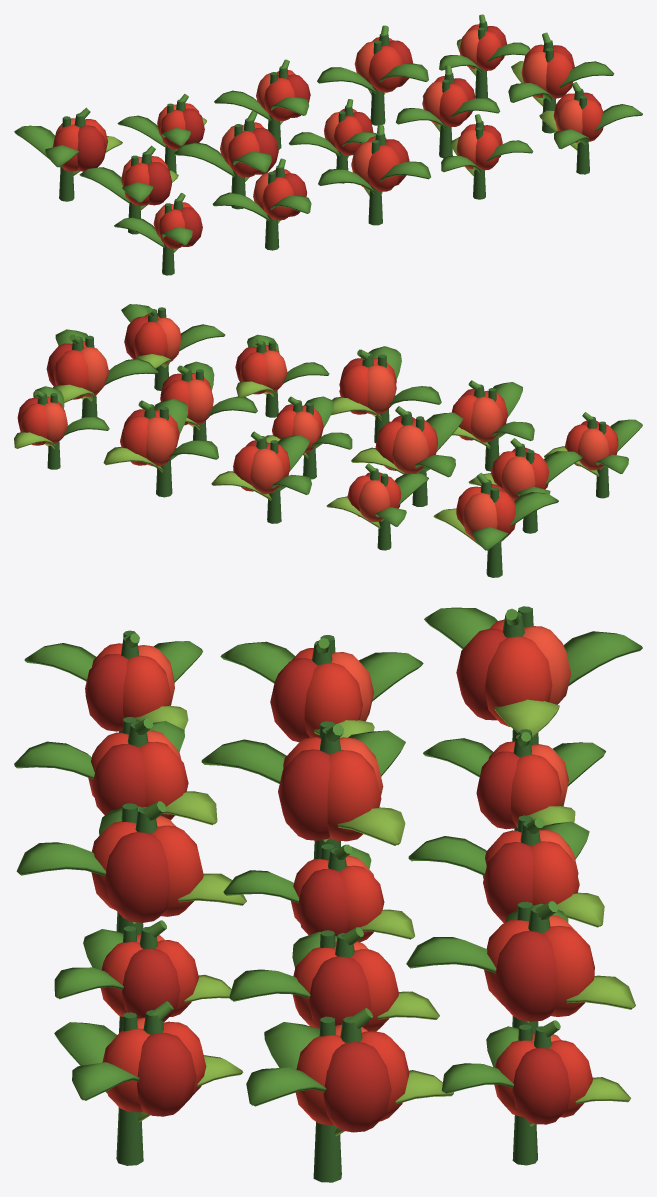
Rendered from Pepper_Planted_Patch.fbx.
3 renders of one model, top to bottom at view 1: azimuth 30°, elevation 25°; view 2: azimuth 150°, elevation 25°; view 3: azimuth 270°, elevation 25°, orthographic. The views are drawn at different scales.
Parts seen in each view (by area): view 1: Body; view 2: Body; view 3: Body.
Boxes of the visible parts, left/top/right/bottom form: Body: left=14, top=14, right=642, bottom=275; Body: left=14, top=304, right=642, bottom=577; Body: left=14, top=606, right=642, bottom=1182.
Size of the model in its own units: 1.64 by 0.271 by 0.8908.
